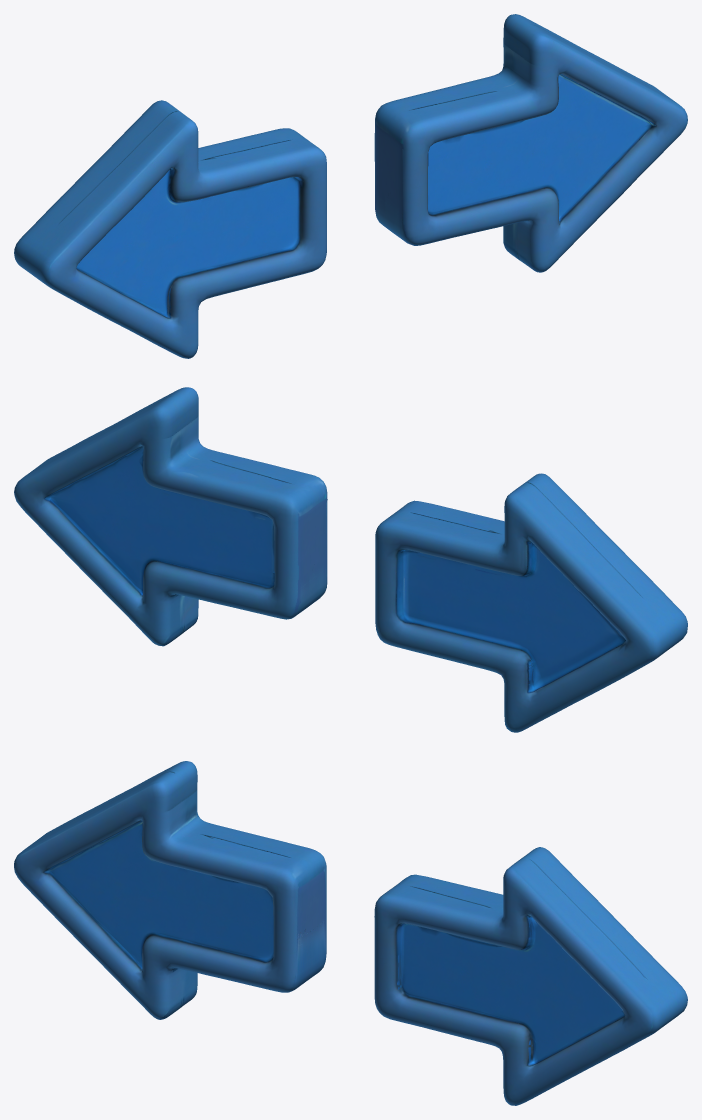
File: expand_arrows.glb
3 renders of one model, top to bottom at view 1: azimuth 30°, elevation 25°; view 2: azimuth 150°, elevation 25°; view 3: azimuth 330°, elevation 25°, orthographic.
Size of the model in its own units: 2 by 0.7093 by 0.1993.
Materials: 1 (1 with a texture image).
